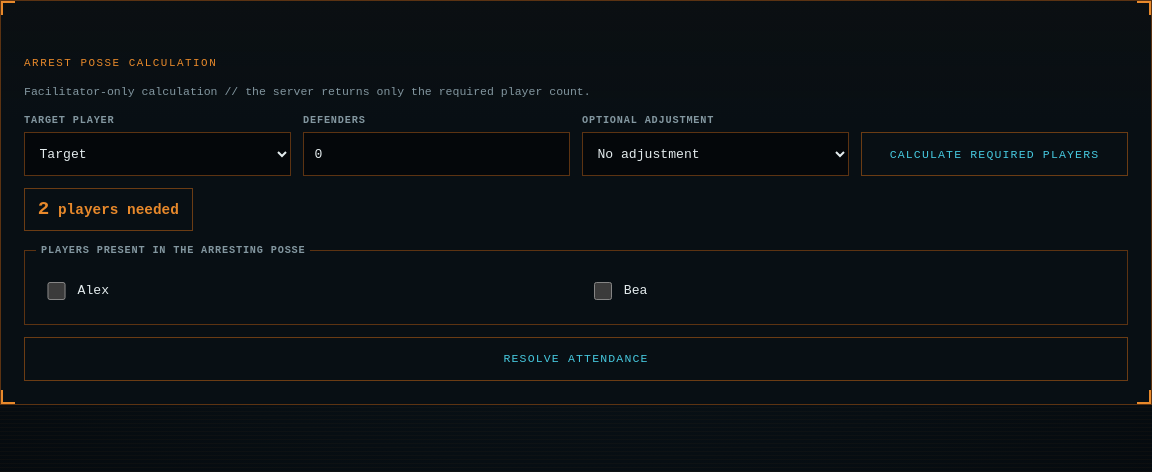
Test: lets a facilitator record named attendance against the private current threshold
Click the checkbox labelled "Alex": (57, 291) top-left (47, 282), bottom-right (66, 300)
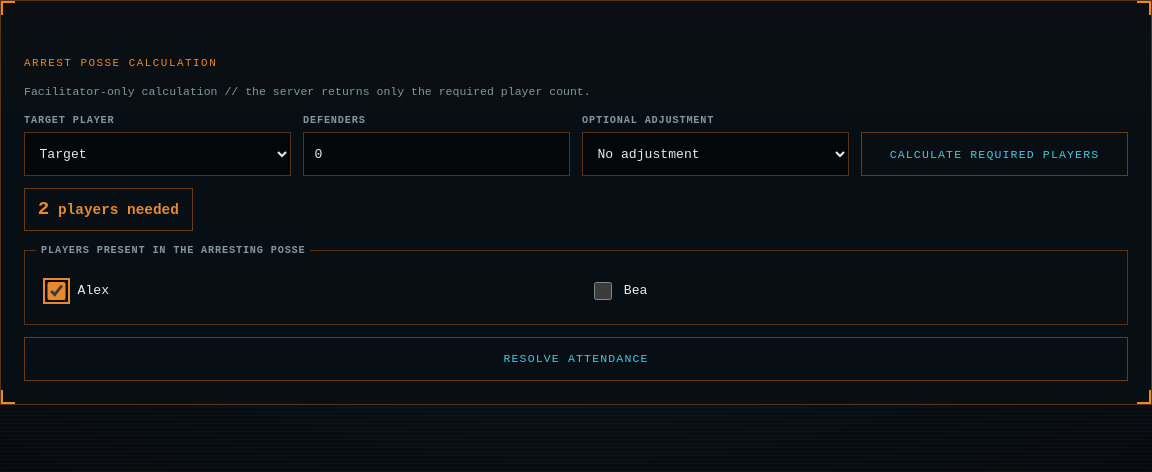
Click the checkbox labelled "Bea": (603, 291) top-left (594, 282), bottom-right (612, 300)
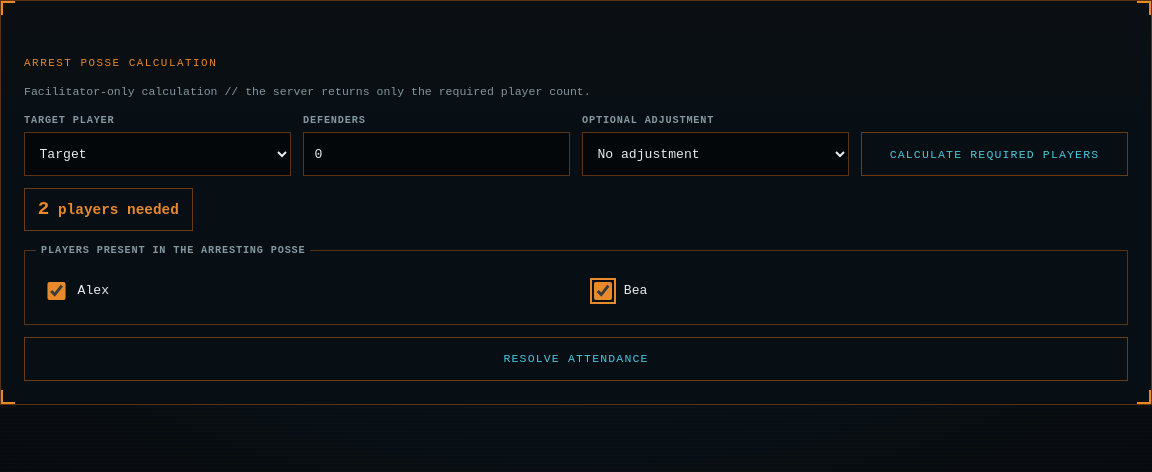
Click the button "Resolve attendance": (576, 359) top-left (24, 337), bottom-right (1128, 381)
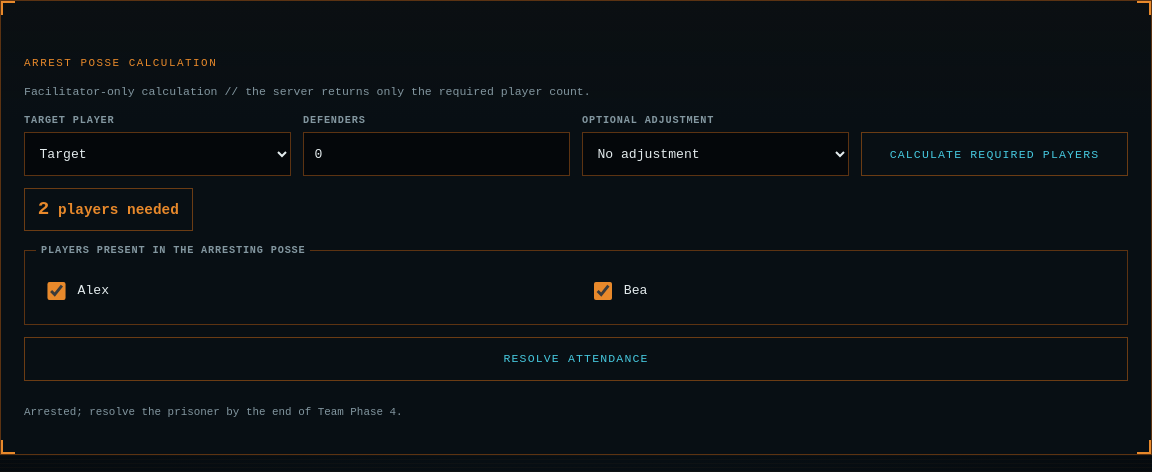
Expected: the text "Arrested; resolve the prisoner by the end of Team Phase 4." is shown, top-left (24, 406), bottom-right (402, 418)
